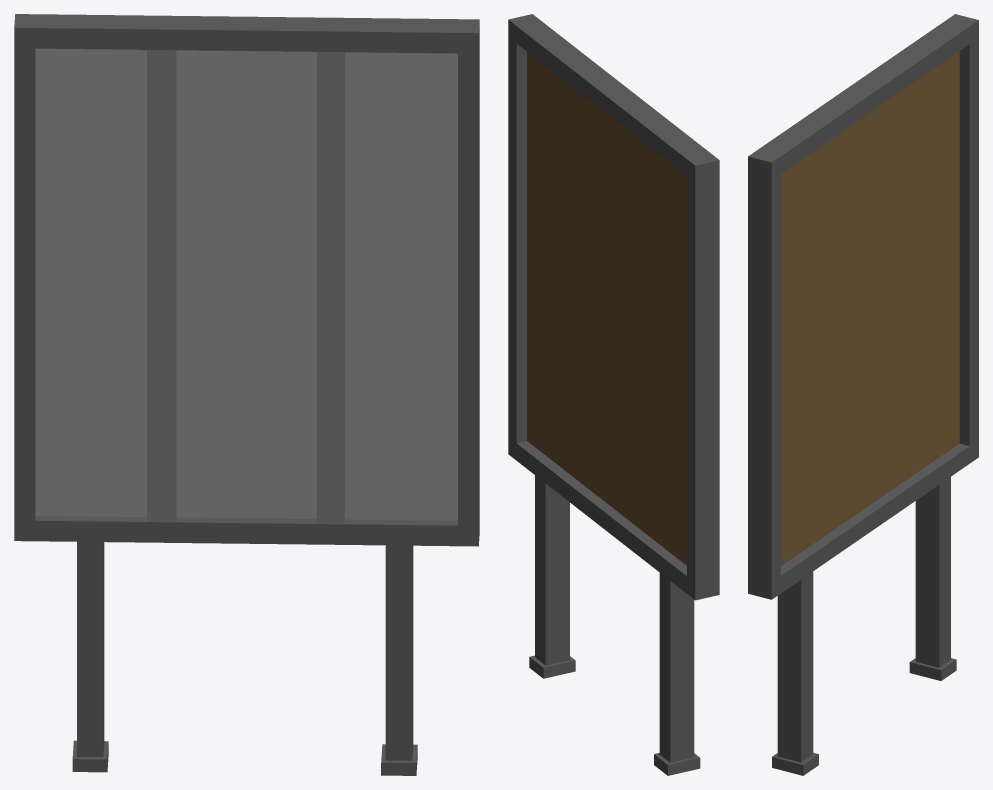
Rendered from Street Advertisement 2.fbx.
3 renders of one model, left to right at view 1: azimuth 30°, elevation 25°; view 2: azimuth 150°, elevation 25°; view 3: azimuth 270°, elevation 25°, orthographic. The views are drawn at different scales.
Parts seen in each view (by area): view 1: Street Advertisement 2; view 2: Street Advertisement 2; view 3: Street Advertisement 2.
Part boxes in pixels (left/top/right/bottom): Street Advertisement 2: left=14, top=14, right=479, bottom=775; Street Advertisement 2: left=508, top=14, right=719, bottom=775; Street Advertisement 2: left=748, top=14, right=978, bottom=775.
Bounding box in the file's own units: 178 × 117 × 352.
